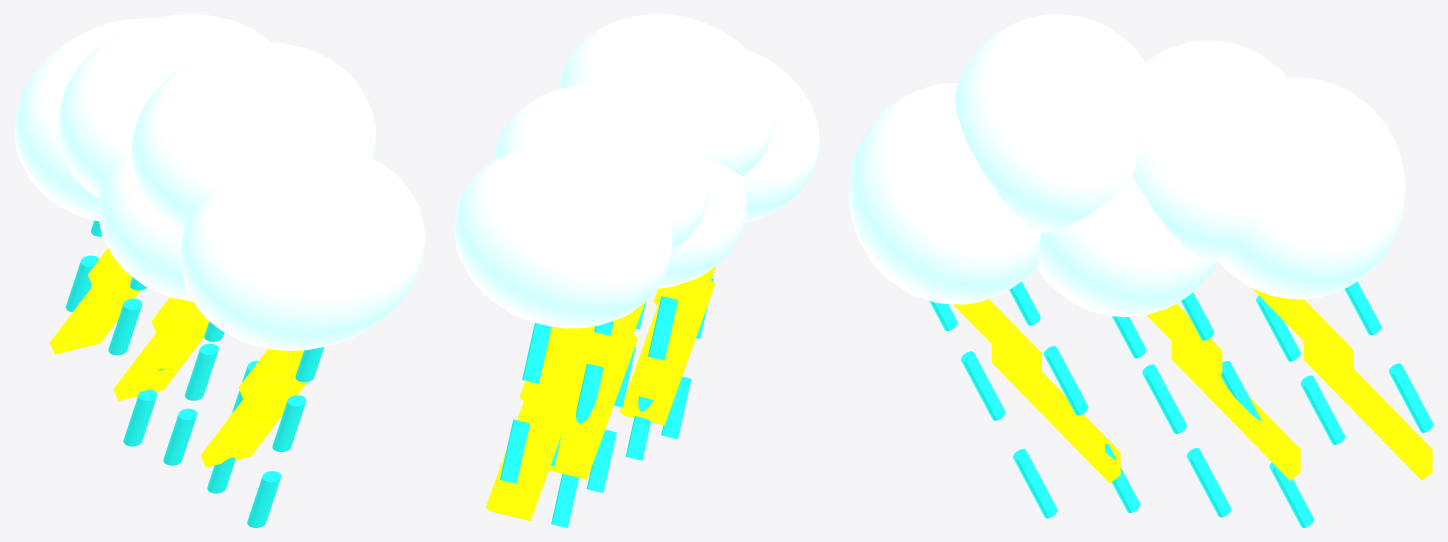
Rendered from snow.glb.
3 renders of one model, left to right at view 1: azimuth 30°, elevation 25°; view 2: azimuth 150°, elevation 25°; view 3: azimuth 270°, elevation 25°, orthographic. The views are drawn at different scales.
Visible parts, largest first — view 1: Sphere (×5), Box (×5), Cylinder (×9); view 2: Sphere (×5), Box (×6), Cylinder (×8); view 3: Sphere (×5), Box (×6), Cylinder (×15).
Boxes of the visible parts, bbox=[...] form: Sphere (×5): bbox=[14, 14, 425, 350]; Box (×5): bbox=[50, 265, 307, 467]; Cylinder (×9): bbox=[65, 255, 324, 527]; Sphere (×5): bbox=[454, 14, 819, 328]; Box (×6): bbox=[485, 266, 715, 520]; Cylinder (×8): bbox=[500, 296, 691, 527]; Sphere (×5): bbox=[848, 14, 1405, 317]; Box (×6): bbox=[953, 288, 1432, 483]; Cylinder (×15): bbox=[961, 281, 1433, 527].
Bounding box in the file's own units: 2.98 × 6.12 × 6.54.
